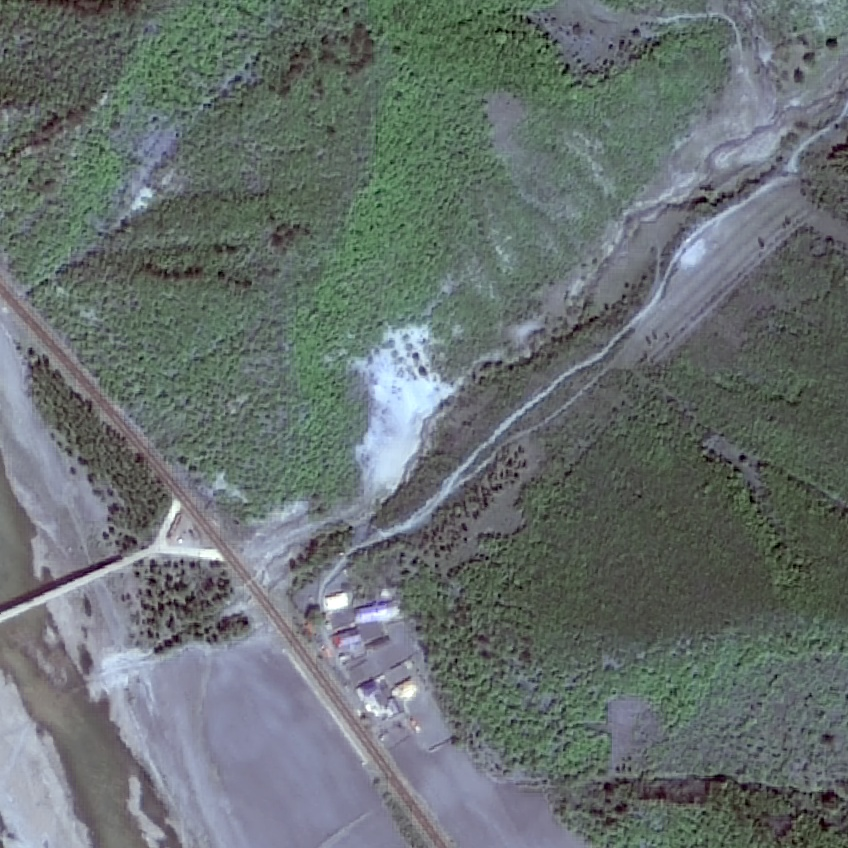slope: (346, 326, 457, 512)
